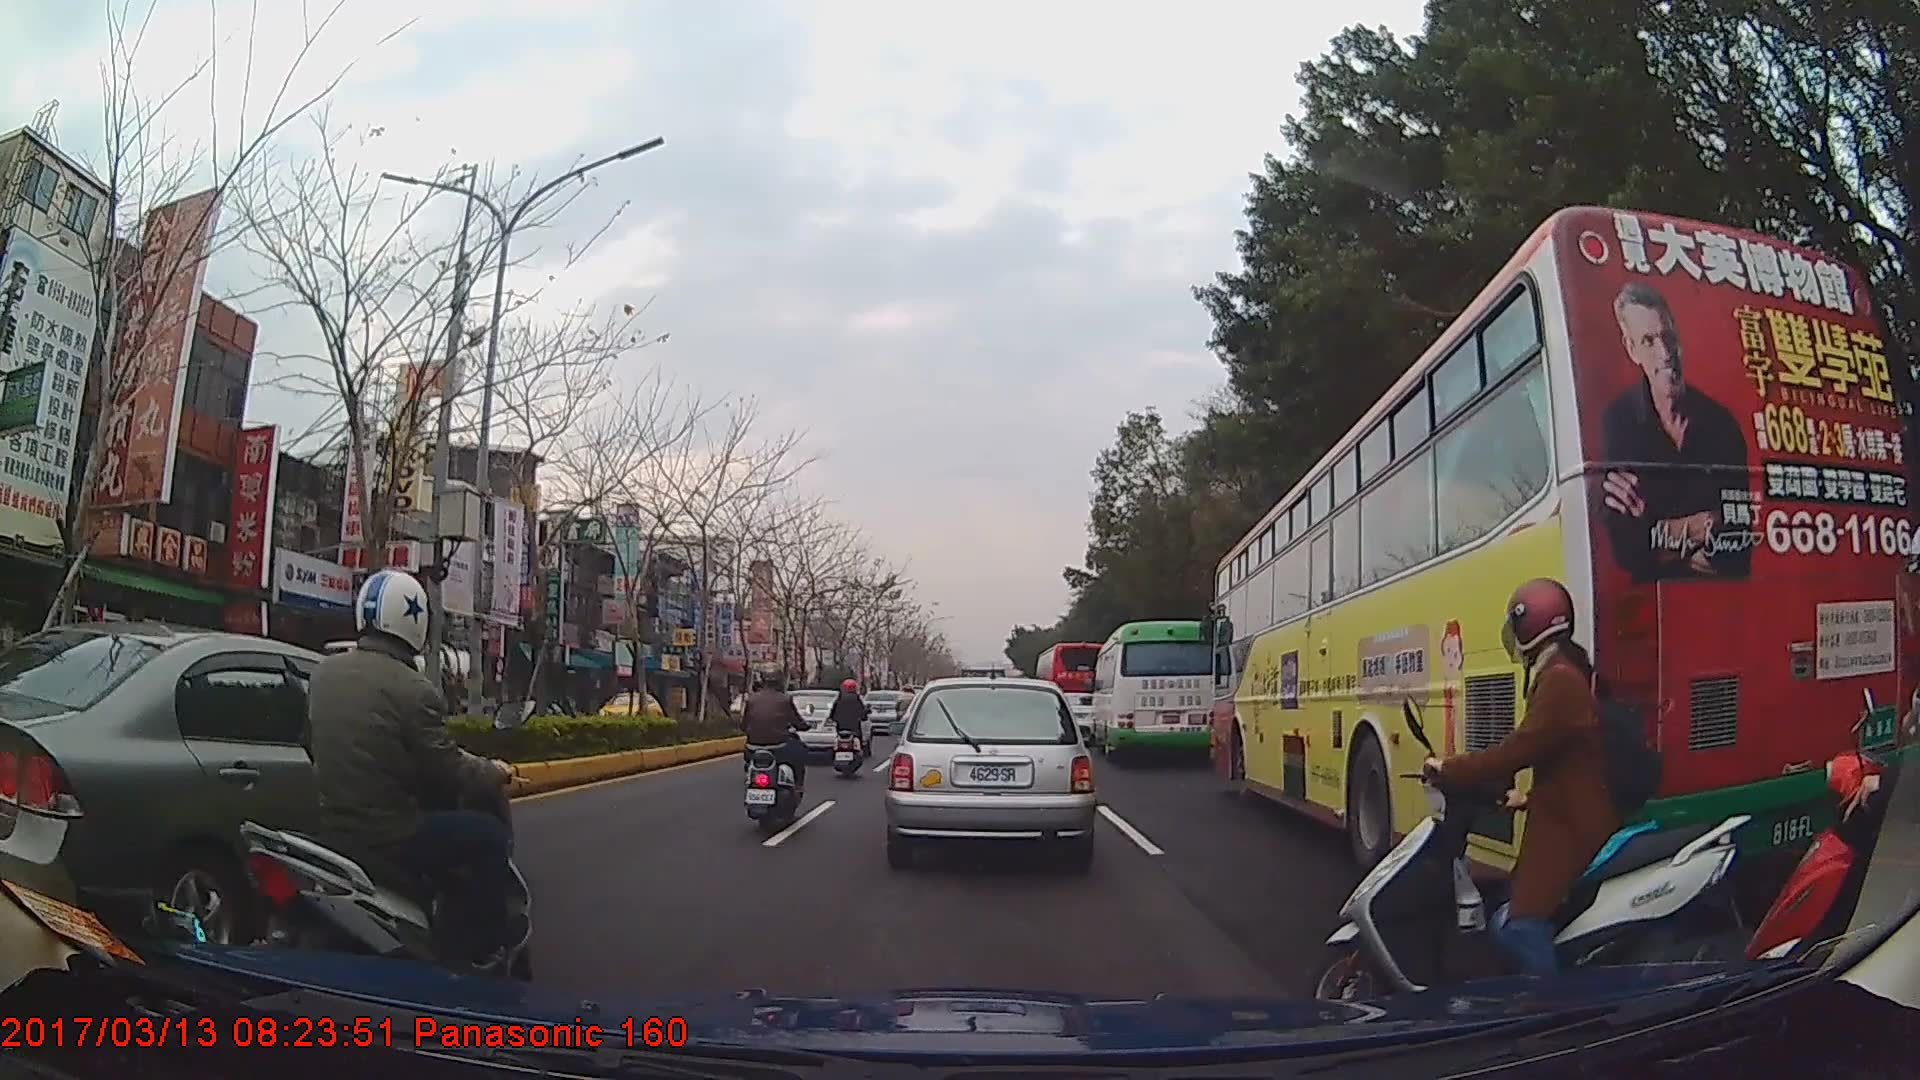rider: (1291, 580, 1748, 1037), (238, 570, 533, 1020), (733, 659, 810, 836), (830, 677, 871, 781)
vehicle: (1212, 203, 1909, 894), (0, 616, 513, 964), (887, 671, 1094, 865), (1090, 618, 1217, 762), (771, 687, 870, 767), (1031, 638, 1109, 734), (590, 687, 664, 734)
